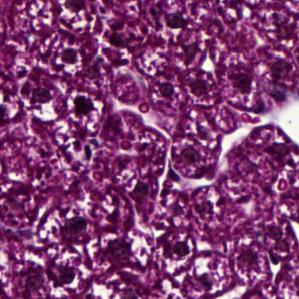inflammation: (40, 203, 91, 247), (54, 0, 104, 36), (66, 85, 107, 127), (157, 233, 194, 270)
